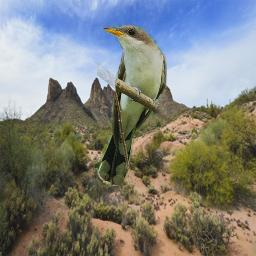Cuckoo: (97, 25, 167, 186)
